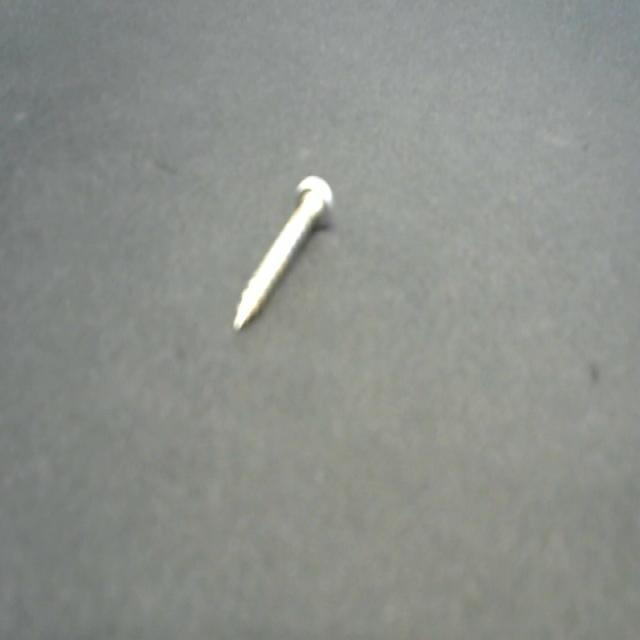SheetMetalScrew: (231, 172, 345, 329)
